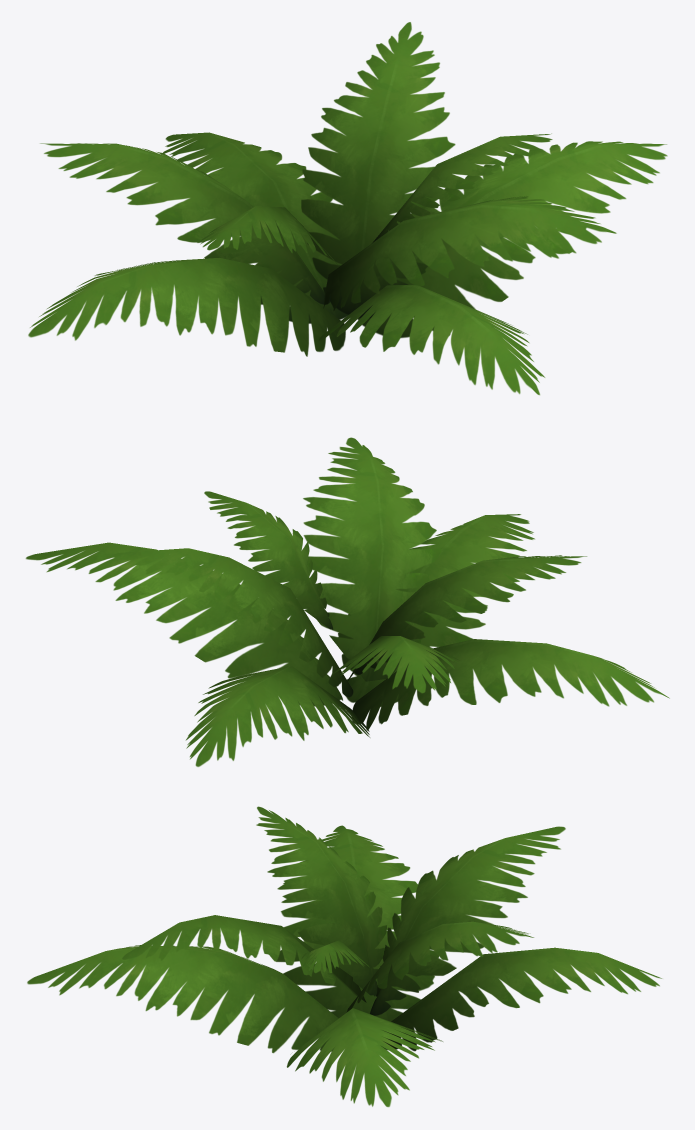
Rendered from Fern.glb.
The picture shows the model from 3 angles, top to bottom: view 1: azimuth 30°, elevation 25°; view 2: azimuth 150°, elevation 25°; view 3: azimuth 270°, elevation 25°; orthographic projection. The views are drawn at different scales.
Visible parts, largest first — view 1: Fern_1; view 2: Fern_1; view 3: Fern_1.
Boxes of the visible parts, bbox=[...] form: Fern_1: bbox=[28, 22, 667, 395]; Fern_1: bbox=[25, 437, 669, 766]; Fern_1: bbox=[27, 806, 662, 1107].
Bounding box in the file's own units: 9.05 × 2.69 × 8.49.
Materials: 1 (1 with a texture image).
